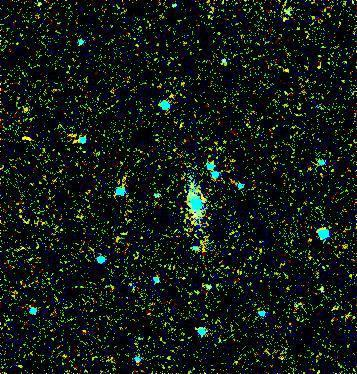star: (9, 93, 39, 123)
